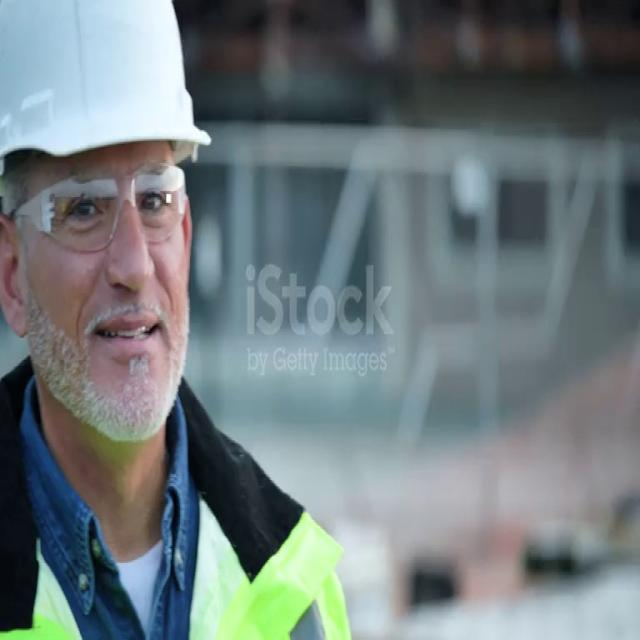capacete: (0, 0, 216, 233)
